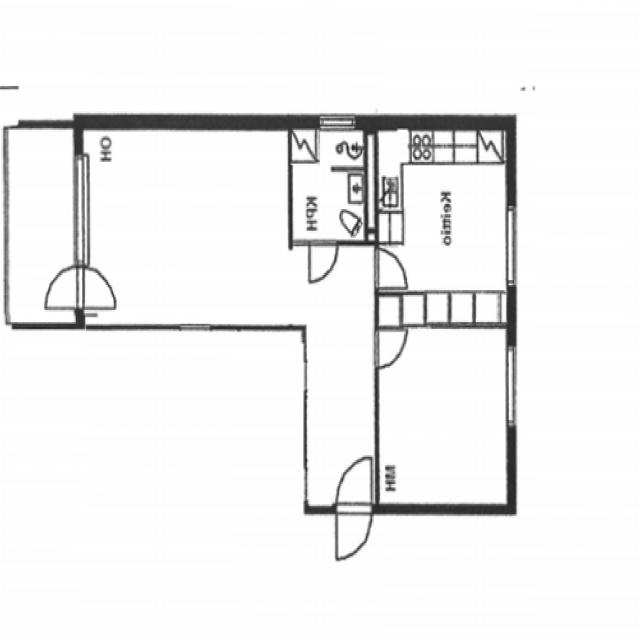door: (336, 459, 370, 515), (336, 504, 370, 560), (73, 267, 114, 308), (42, 267, 82, 308), (372, 248, 409, 288), (372, 330, 406, 367), (309, 240, 337, 281)
